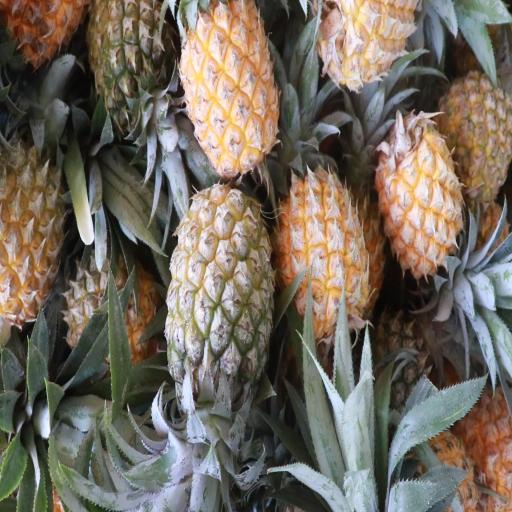------------------------------: (167, 182, 272, 402), (65, 246, 160, 373), (442, 64, 512, 206)
Pineapple - v8 v1: (187, 0, 284, 167), (378, 108, 464, 278), (281, 170, 368, 337), (0, 138, 71, 314)
